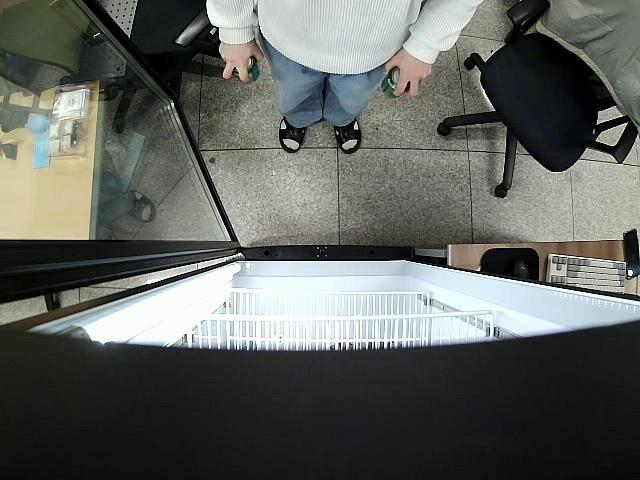12_chilsungCider: (234, 56, 260, 81), (381, 66, 400, 98)
